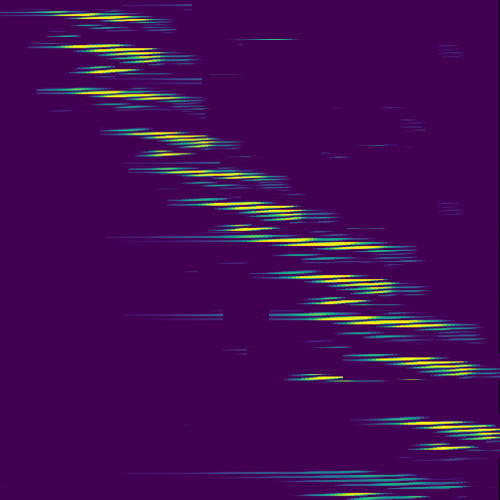semblance: (271, 266, 410, 307), (219, 222, 397, 254), (53, 39, 167, 76), (396, 416, 500, 454), (370, 350, 488, 382), (185, 194, 327, 220), (298, 310, 456, 332), (115, 125, 219, 158), (66, 84, 186, 105), (42, 4, 156, 26), (154, 166, 273, 182)
